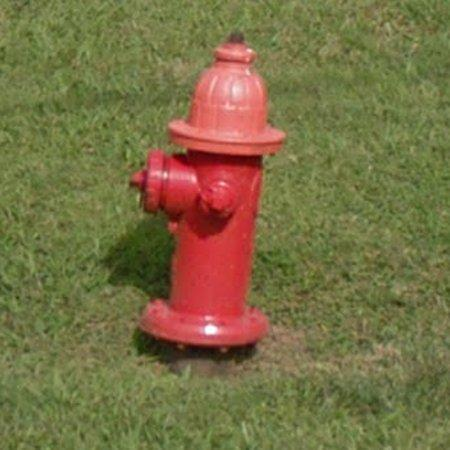a fire hydrant: (131, 35, 286, 348)
